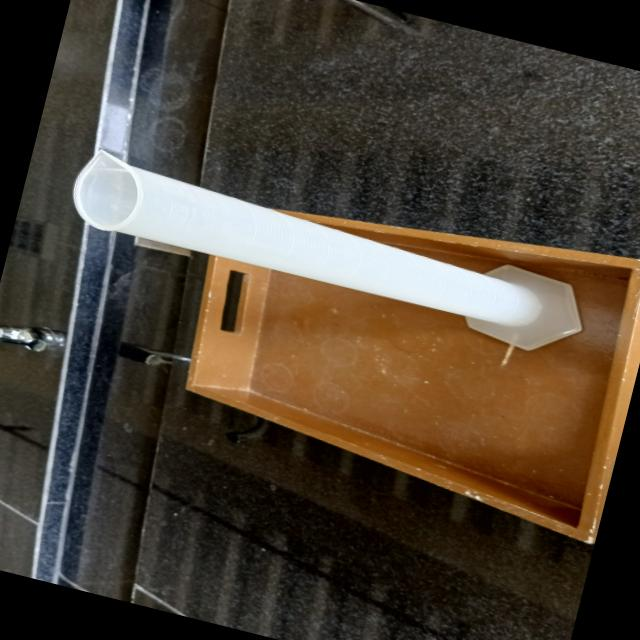graduated_cylinder: (55, 138, 601, 364)
